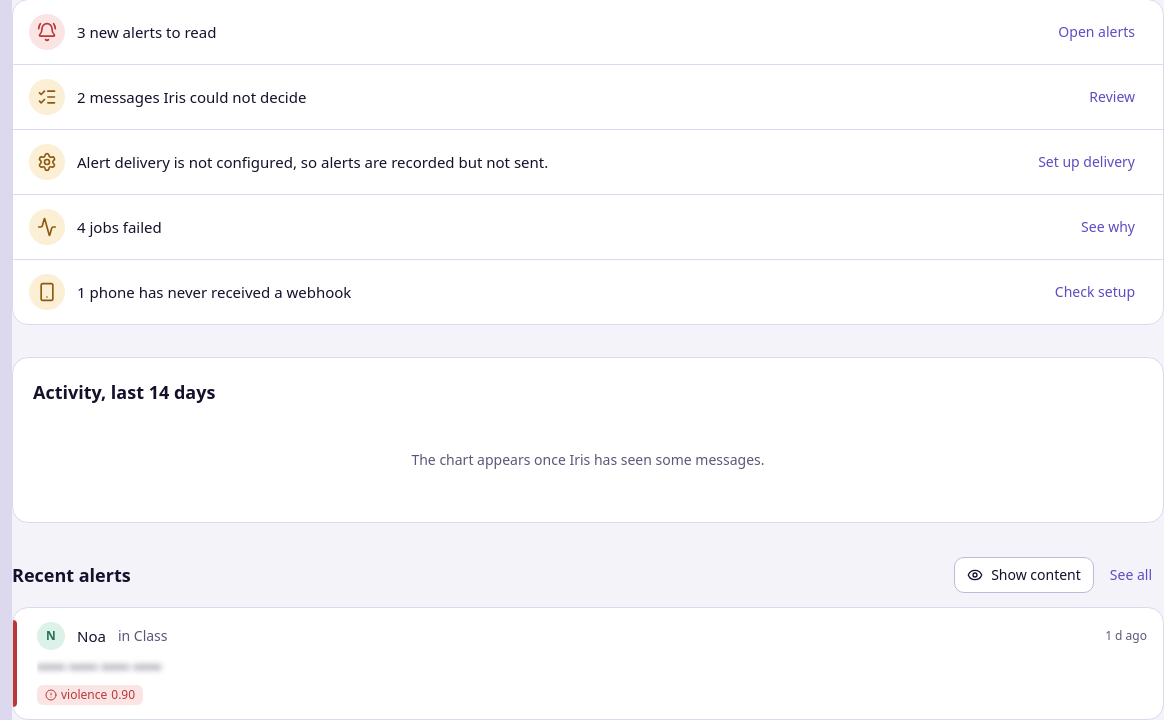
Scenario: recent alerts show no quote until the eye is pressed
(page scrolled)
Expected: the heading "Recent alerts" is shown, x1=12 y1=561 x2=131 y2=589
Expected: the text "a private quote" is not shown
Click the button "Show content": (1024, 575) x1=954 y1=557 x2=1094 y2=593
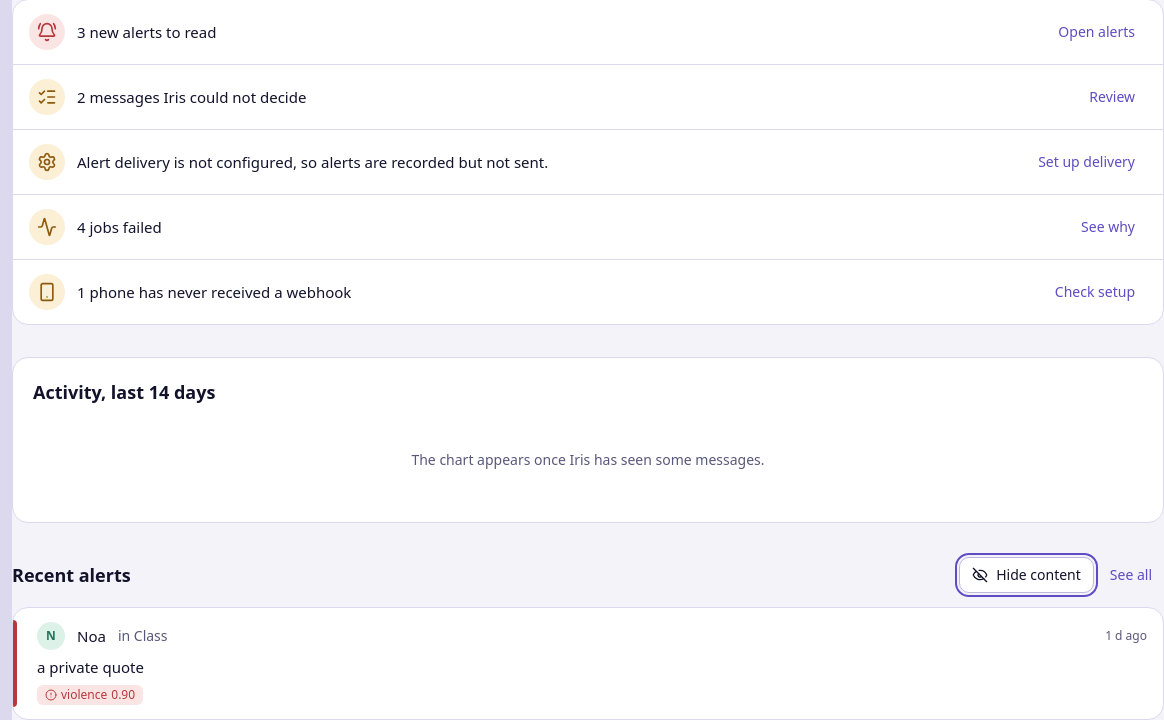
Expected: the text "a private quote" is shown, x1=37 y1=657 x2=144 y2=677
